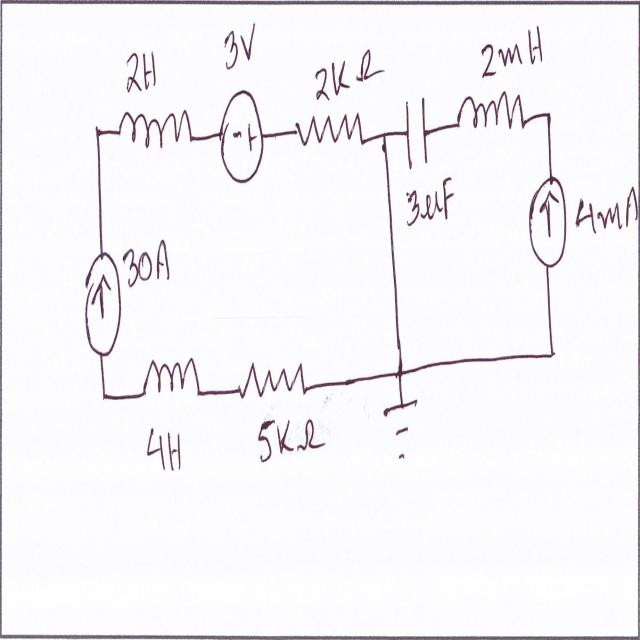capacitor: (404, 94, 430, 160)
current_source: (84, 249, 120, 350), (530, 173, 568, 266)
ground: (382, 401, 419, 461)
inductor: (119, 109, 192, 154), (455, 88, 524, 132), (141, 358, 201, 398)
resistor: (240, 359, 304, 403), (294, 111, 366, 149)
voltage_source: (219, 87, 264, 183)
